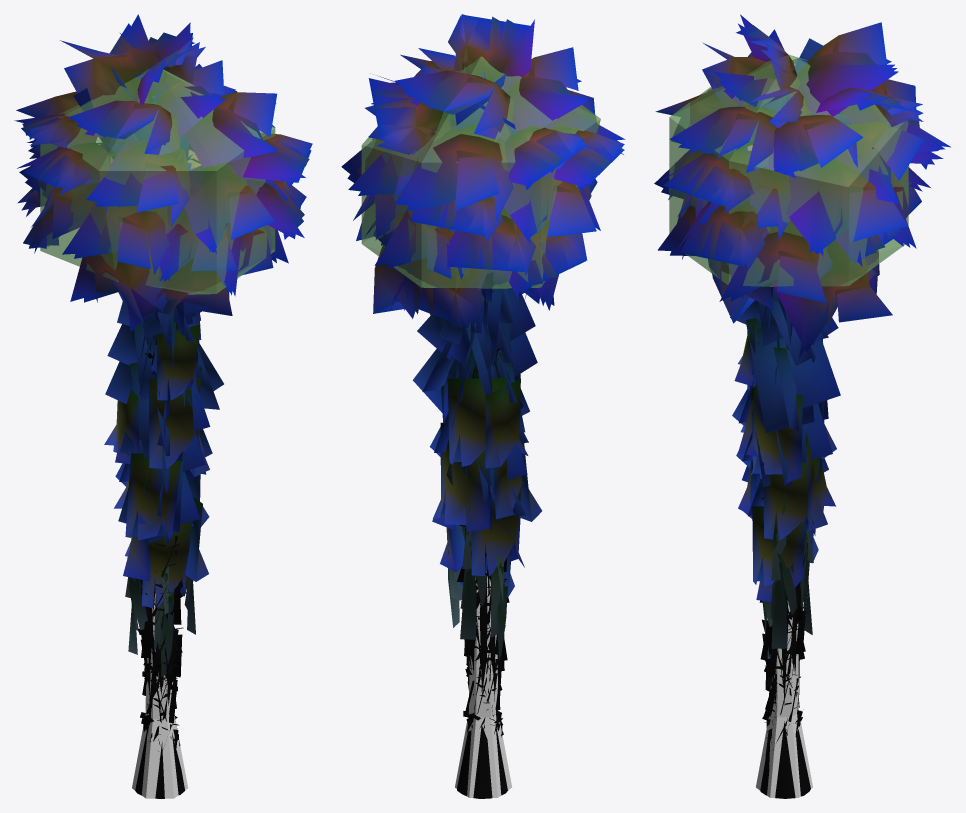
File: italy_palm_1.dae
3 renders of one model, left to right at view 1: azimuth 30°, elevation 25°; view 2: azimuth 150°, elevation 25°; view 3: azimuth 270°, elevation 25°, orthographic.
Visible parts, largest first — view 1: italy_palm_1_b900, italy_palm_1_b200, Colmesh-1; view 2: italy_palm_1_b900, italy_palm_1_b200, Colmesh-1; view 3: italy_palm_1_b900, italy_palm_1_b200, Colmesh-1.
Part boxes in pixels (bbox=[...]): italy_palm_1_b900: bbox=[14, 14, 312, 798]; italy_palm_1_b200: bbox=[16, 23, 311, 741]; Colmesh-1: bbox=[40, 69, 275, 798]; italy_palm_1_b900: bbox=[341, 14, 625, 798]; italy_palm_1_b200: bbox=[347, 14, 624, 735]; Colmesh-1: bbox=[361, 56, 600, 797]; italy_palm_1_b900: bbox=[654, 14, 950, 798]; italy_palm_1_b200: bbox=[655, 23, 945, 725]; Colmesh-1: bbox=[669, 54, 908, 797].
Bounding box in the file's own units: 4.67 × 4.68 × 13.22.
